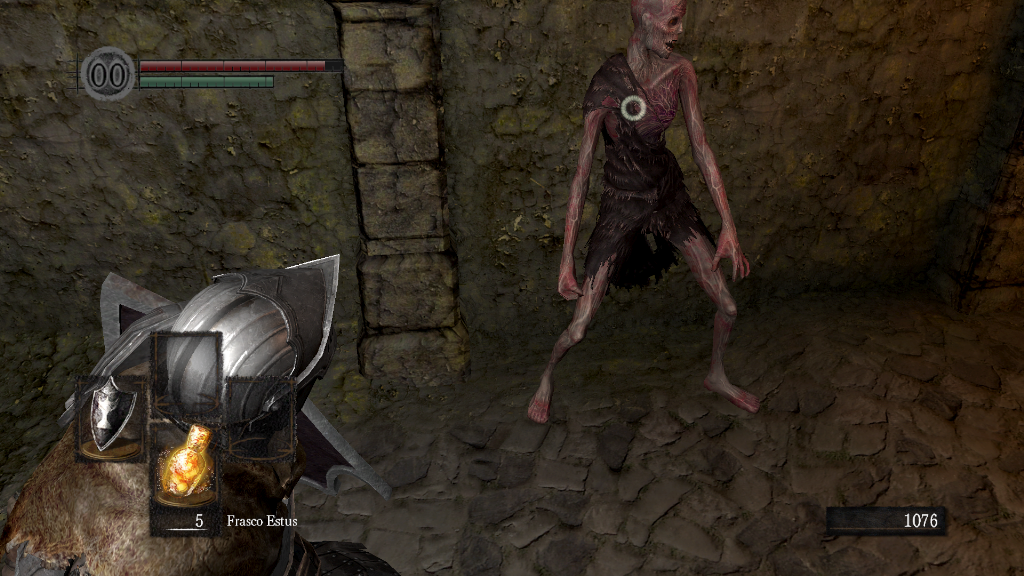health: (138, 58, 343, 71)
hollow: (521, 1, 763, 426)
humanity: (80, 45, 136, 102)
player: (1, 252, 405, 576)
souls: (825, 506, 945, 536)
stamina: (138, 74, 274, 88)
